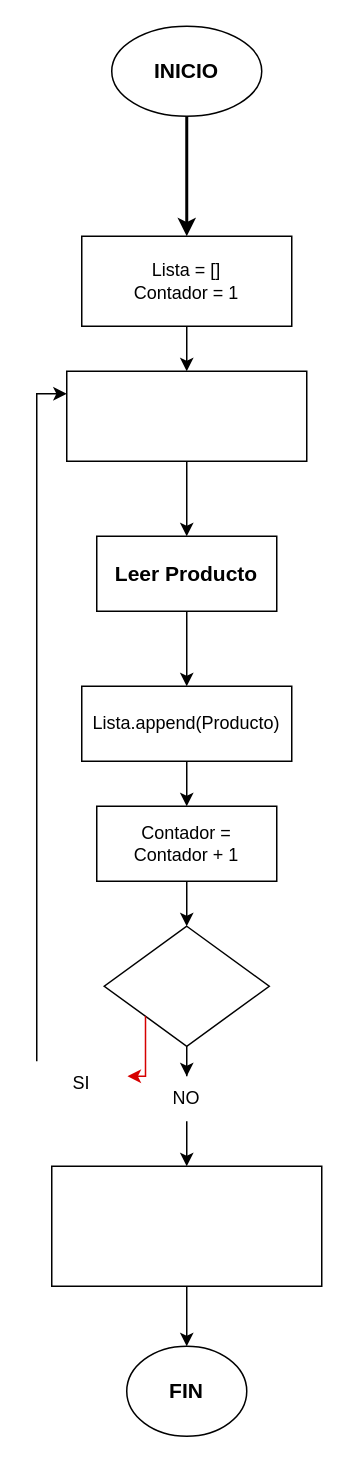
The diagram is 348 pixels wide and 1463 high, and some of its shapes have lost their labels. The centre of each missing label's shape, as x and y in pixels:
"MOSTRAR LISTA NUMERADA 1. Arroz 2. Fideos etc..." goes at point 186,1225.
"Solicitar producto # Contador" goes at point 186,415.
"¿Contador <= 5?" goes at point 186,985.
